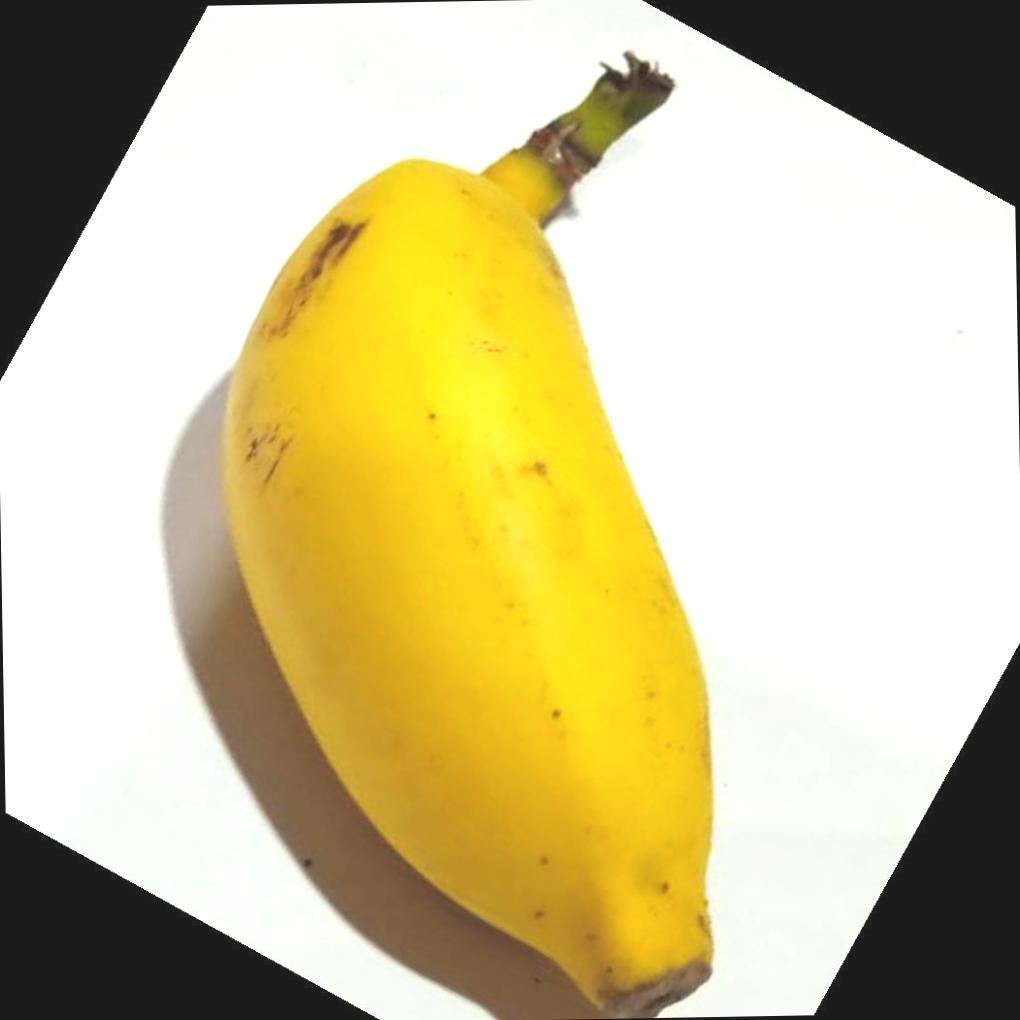Banana Ripe: (205, 81, 735, 1020)
